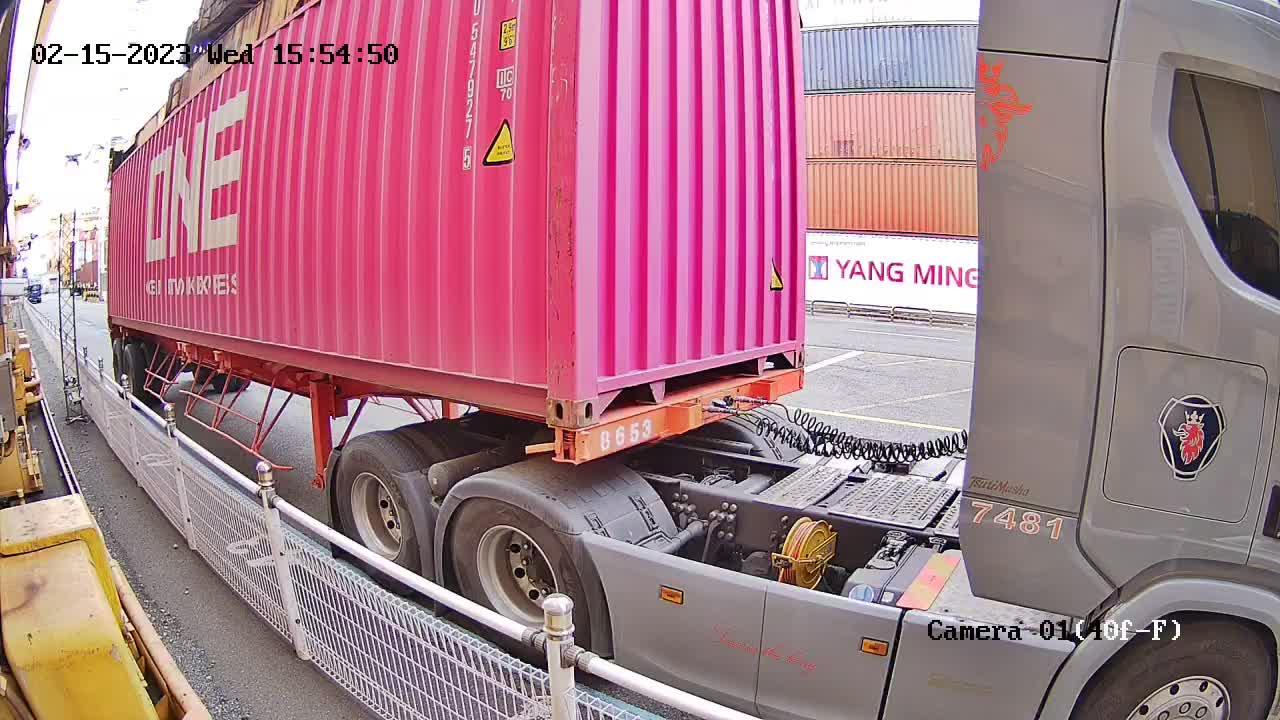Chassis: (582, 368, 806, 463)
Cone: (549, 427, 583, 466)
Hole_L: (577, 348, 623, 432)
Hole_R: (507, 354, 577, 427), (762, 316, 805, 375)
Tire: (449, 497, 596, 637), (332, 443, 410, 559)
